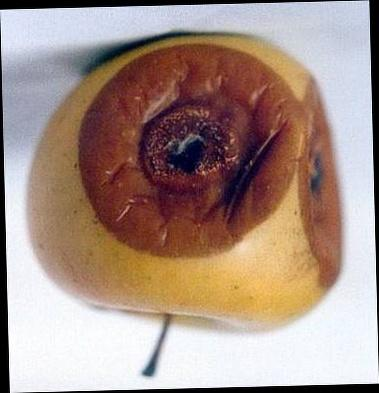rotten apple: (19, 28, 357, 333)
